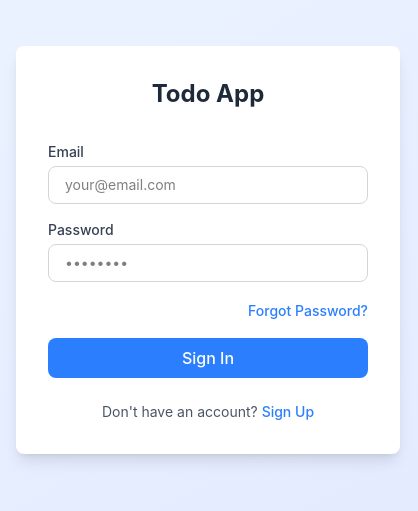
Test: AuthForm › should display error message on auth failure
The width and height of the screenshot is (418, 511).
Type "test@example.com" into the field labelled "Email" at (208, 185), box [48,166,368,204]
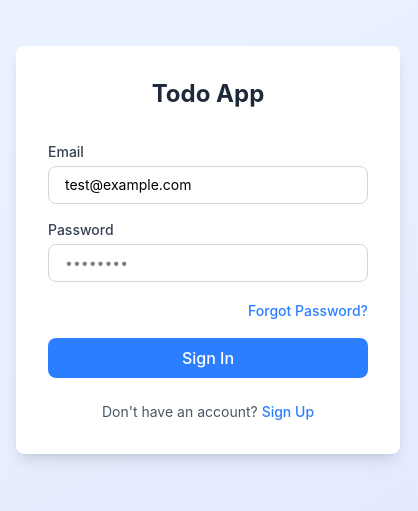
Type "wrongpassword" into the password field labelled "Password" at (208, 263), box [48,244,368,282]
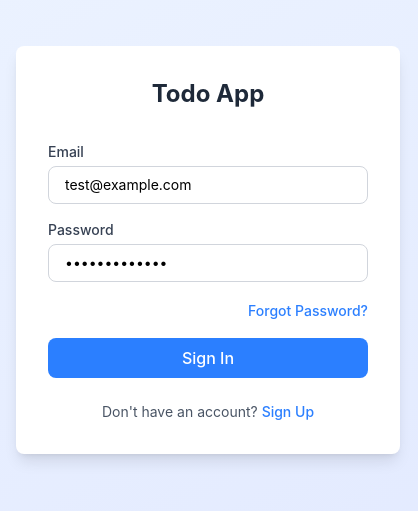
Click the button "Sign In" at (208, 358), box [48,338,368,378]
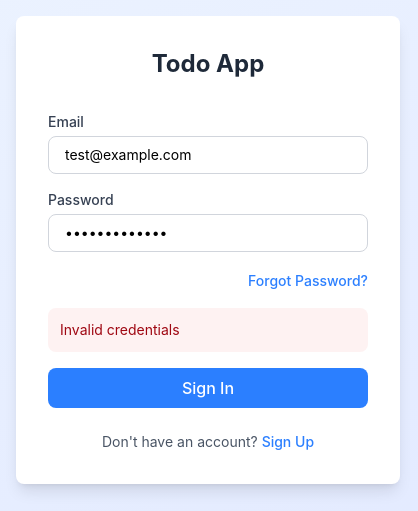
Check: the text "Invalid credentials" is shown, box [60,321,180,338]
